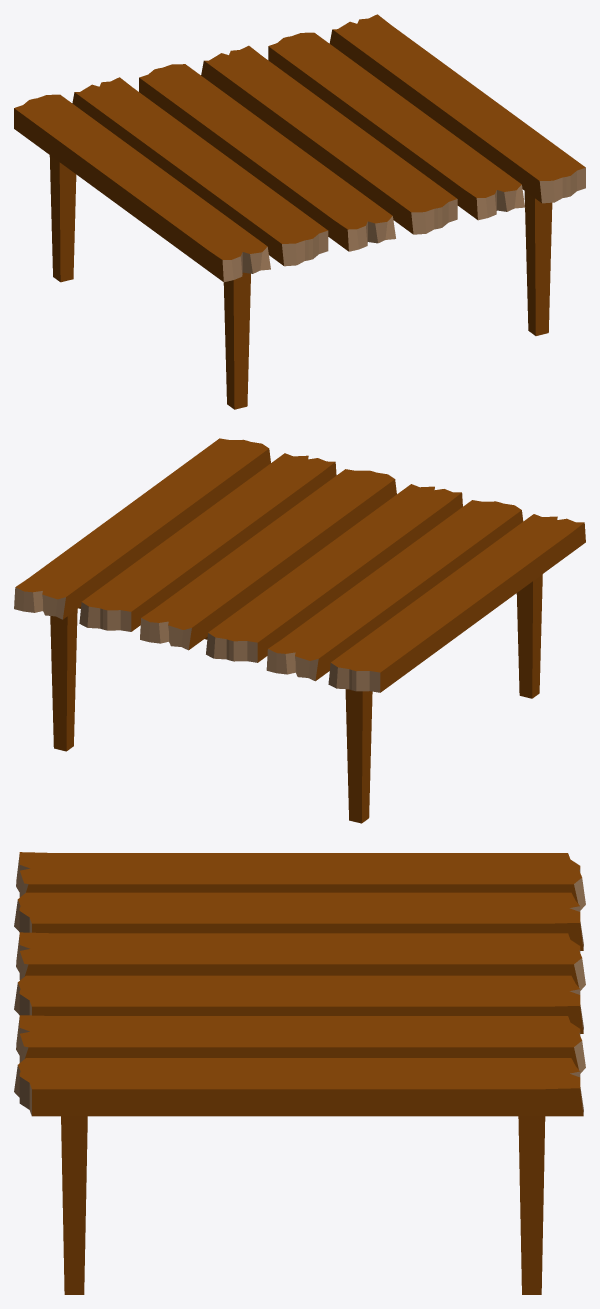
File: Floor_wooden 2.fbx
3 renders of one model, top to bottom at view 1: azimuth 30°, elevation 25°; view 2: azimuth 150°, elevation 25°; view 3: azimuth 270°, elevation 25°, orthographic. The views are drawn at different scales.
Visible parts, largest first — view 1: Cube.1214; view 2: Cube.1214; view 3: Cube.1214.
Boxes of the visible parts, left/top/right/bottom form: Cube.1214: left=14, top=14, right=585, bottom=409; Cube.1214: left=14, top=438, right=585, bottom=823; Cube.1214: left=14, top=852, right=585, bottom=1294.
Bounding box in the file's own units: 7329 × 3221 × 7502.
